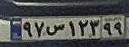character: (45, 19, 67, 39), (22, 19, 34, 41), (33, 19, 45, 41), (77, 17, 89, 38), (89, 16, 100, 36), (67, 18, 77, 37), (112, 20, 123, 35), (103, 19, 112, 37)
